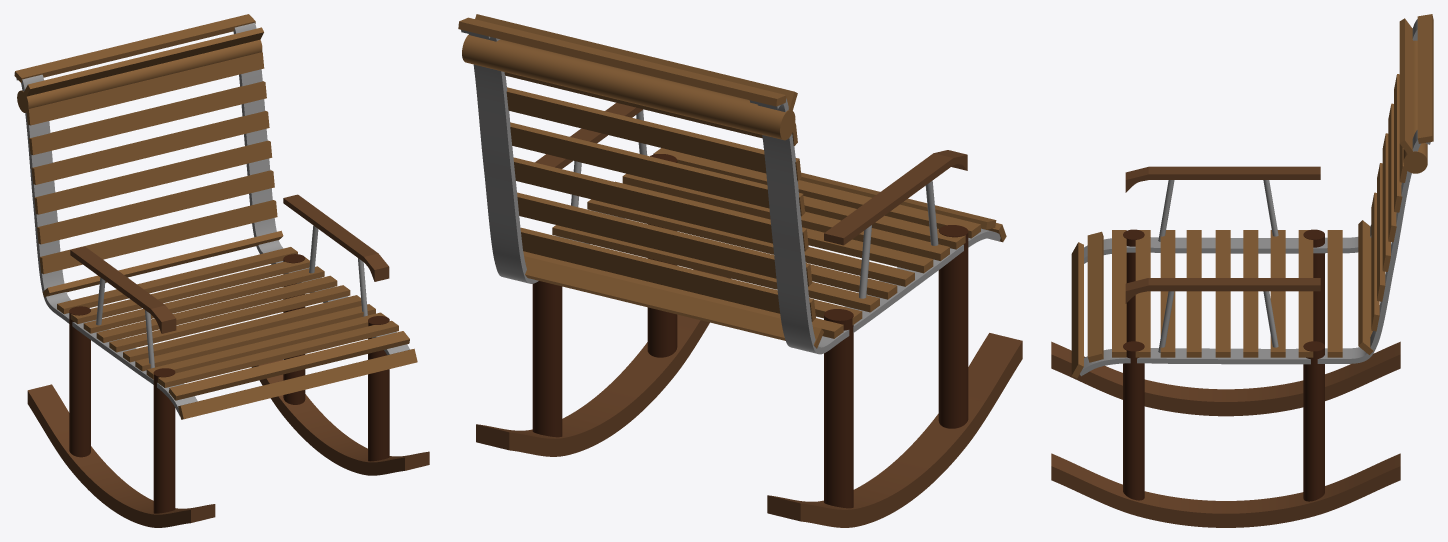
3 views of the same model, side by side, from view 1: azimuth 30°, elevation 25°; view 2: azimuth 150°, elevation 25°; view 3: azimuth 270°, elevation 25° (orthographic). The views are drawn at different scales.
Visible parts, largest first — view 1: rocking_chair; view 2: rocking_chair; view 3: rocking_chair.
Part boxes in pixels (left/top/right/bottom): rocking_chair: left=14, top=14, right=429, bottom=527; rocking_chair: left=458, top=14, right=1022, bottom=527; rocking_chair: left=1051, top=14, right=1433, bottom=527.
Size of the model in its own units: 0.751 by 1.1 by 0.9741.
